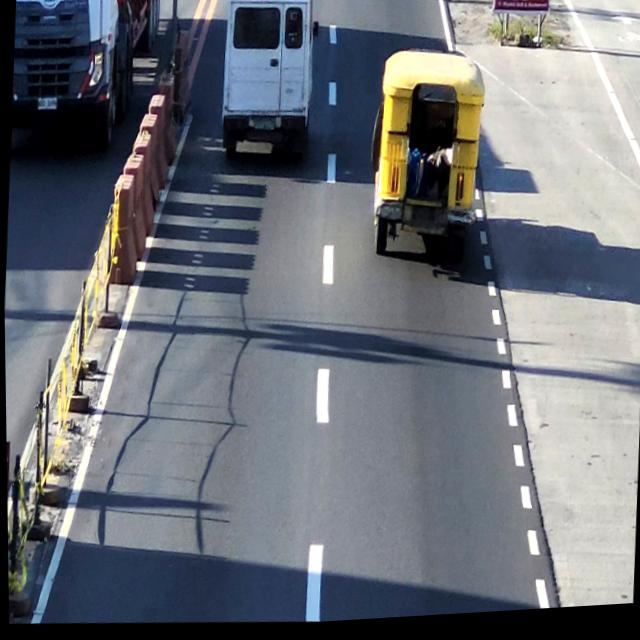Car: (220, 0, 317, 181)
Jeep: (370, 49, 483, 274)
License-Plate: (249, 116, 277, 136), (36, 97, 59, 114)
